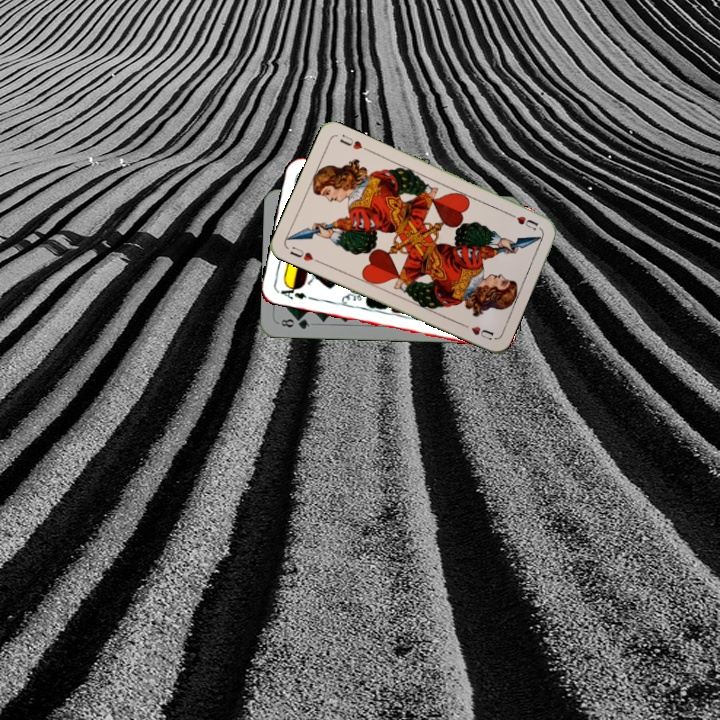EA: (274, 281, 309, 302)
G8: (277, 314, 312, 332)
HU: (286, 242, 323, 265), (512, 212, 541, 233)
